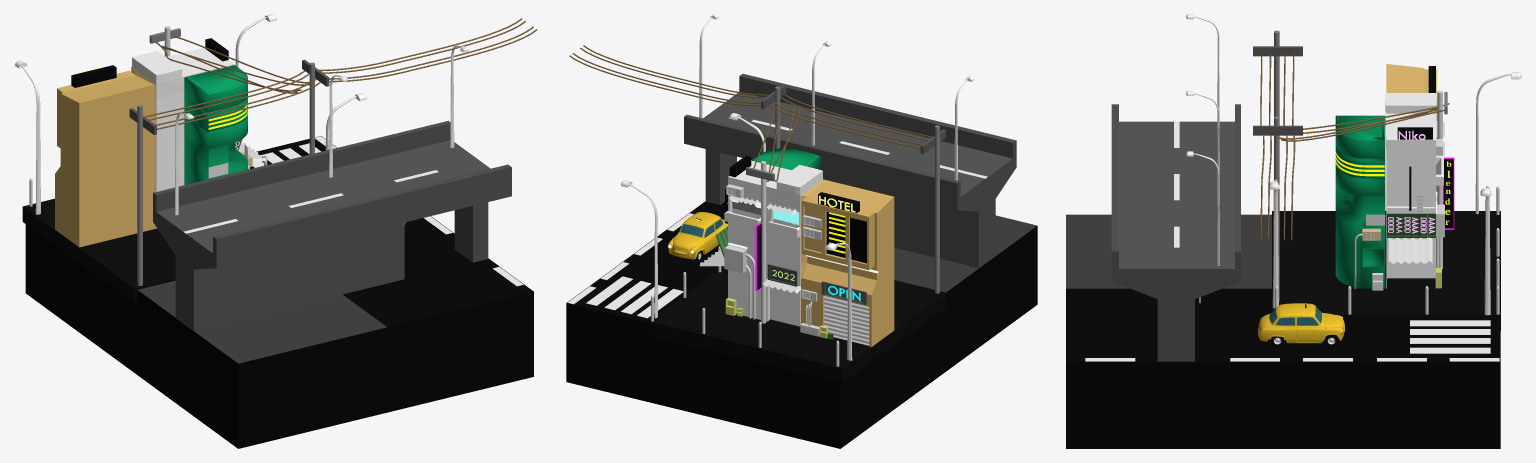
Rendered from miniCity.glb.
3 renders of one model, left to right at view 1: azimuth 30°, elevation 25°; view 2: azimuth 150°, elevation 25°; view 3: azimuth 270°, elevation 25°, orthographic. The views are drawn at different scales.
Visible parts, largest first — view 1: Cube.006, Cube.004, Cube.002, Cube.059, Cube.003, Cube, Cube.001, Cylinder.073, OutherSide.003, Cube.038, Cylinder.055; view 2: Cube.006, Cube.004, Cube, Cube.002, Cube.001, Cube.059, taxi, Cube.056, Cube.003, Cylinder.030, Cylinder.073, Cube.042 (+6 smaller); view 3: Cube.006, Cube.004, Cube, Cube.003, Cube.001, Cube.059, taxi, Cube.002, Cube.007, OutherSide.002, OutherSide.001, Plane.010 (+10 smaller).
Part boxes in pixels (bbox=[...]): Cube.006: bbox=[25, 136, 533, 448]; Cube.004: bbox=[153, 120, 511, 330]; Cube.002: bbox=[55, 67, 155, 247]; Cube.059: bbox=[138, 280, 386, 363]; Cube.003: bbox=[184, 65, 247, 184]; Cube: bbox=[22, 169, 248, 303]; Cube.001: bbox=[132, 47, 234, 228]; Cylinder.073: bbox=[137, 104, 142, 285]; OutherSide.003: bbox=[14, 60, 40, 214]; Cube.038: bbox=[71, 65, 116, 87]; Cylinder.055: bbox=[309, 62, 314, 154]; Cube.006: bbox=[566, 201, 1037, 448]; Cube.004: bbox=[684, 73, 1016, 268]; Cube: bbox=[648, 266, 946, 382]; Cube.002: bbox=[801, 179, 894, 346]; Cube.001: bbox=[724, 160, 822, 326]; Cube.059: bbox=[894, 215, 1036, 292]; taxi: bbox=[668, 212, 727, 259]; Cube.056: bbox=[823, 295, 869, 345]; Cube.003: bbox=[752, 148, 820, 170]; Cylinder.030: bbox=[761, 161, 766, 323]; Cylinder.073: bbox=[935, 125, 939, 293]; Cube.042: bbox=[850, 217, 866, 263]; Cube.006: bbox=[1066, 288, 1500, 448]; Cube.004: bbox=[1111, 104, 1240, 361]; Cube: bbox=[1272, 211, 1500, 330]; Cube.003: bbox=[1335, 115, 1385, 288]; Cube.001: bbox=[1385, 93, 1443, 288]; Cube.059: bbox=[1066, 214, 1271, 288]; taxi: bbox=[1258, 303, 1344, 343]; Cube.002: bbox=[1386, 64, 1437, 120]; Cube.007: bbox=[1387, 237, 1432, 263]; OutherSide.002: bbox=[1480, 186, 1491, 315]; OutherSide.001: bbox=[1270, 179, 1279, 308]; Plane.010: bbox=[1443, 159, 1453, 228].
Bounding box in the file's own units: 12.43 × 8.53 × 12.02.
